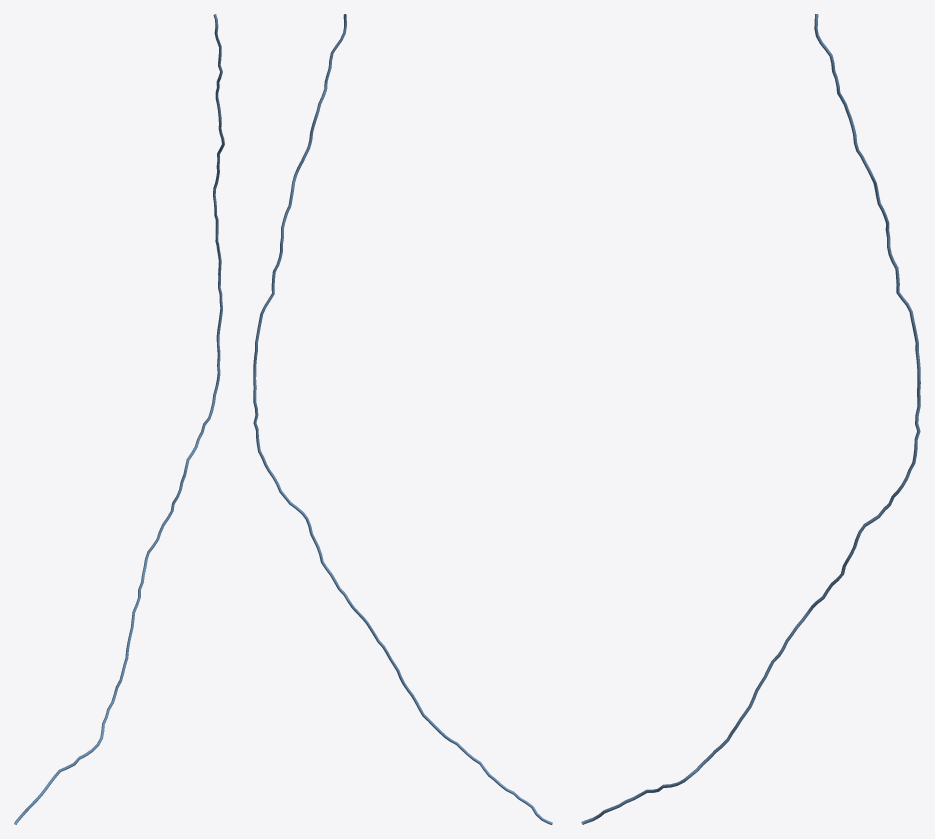
File: sweep105.fbx
3 renders of one model, left to right at view 1: azimuth 30°, elevation 25°; view 2: azimuth 150°, elevation 25°; view 3: azimuth 330°, elevation 25°, orthographic. The views are drawn at different scales.
Parts seen in each view (by area): view 1: sweep105; view 2: sweep105; view 3: sweep105.
Boxes of the visible parts, <box> form: sweep105: <box>14,14,224,824</box>; sweep105: <box>253,14,552,824</box>; sweep105: <box>581,14,920,824</box>.
Bounding box in the file's own units: 1.93 × 5.54 × 0.6332.
